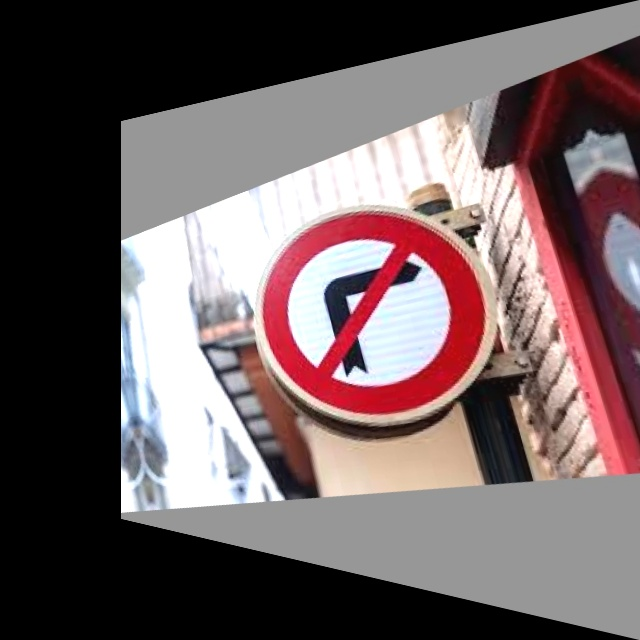Right_Turn_Prohibited: (238, 162, 523, 478)
